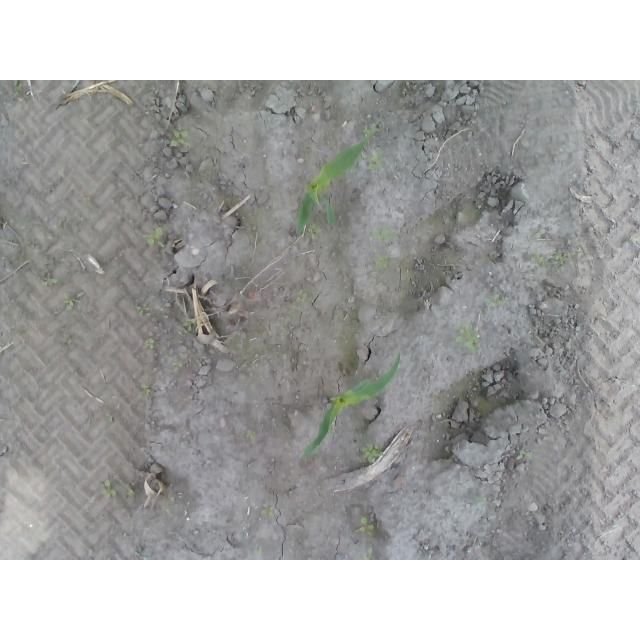Maize: (299, 348, 404, 464), (296, 126, 377, 233)
Weeds: (529, 246, 567, 274), (454, 321, 480, 354), (358, 441, 382, 463), (167, 127, 189, 150), (357, 514, 376, 537), (40, 271, 61, 289), (374, 227, 400, 241), (146, 227, 163, 246), (374, 254, 391, 271), (103, 479, 118, 498), (137, 384, 151, 401), (64, 295, 78, 312), (370, 152, 383, 170), (363, 548, 379, 561), (181, 319, 195, 333), (136, 303, 149, 317), (260, 503, 273, 517), (142, 336, 155, 350), (515, 449, 530, 461), (296, 289, 308, 304), (305, 224, 321, 235), (14, 80, 23, 96), (173, 361, 184, 372), (493, 294, 503, 306), (245, 429, 255, 439), (363, 129, 370, 137)
